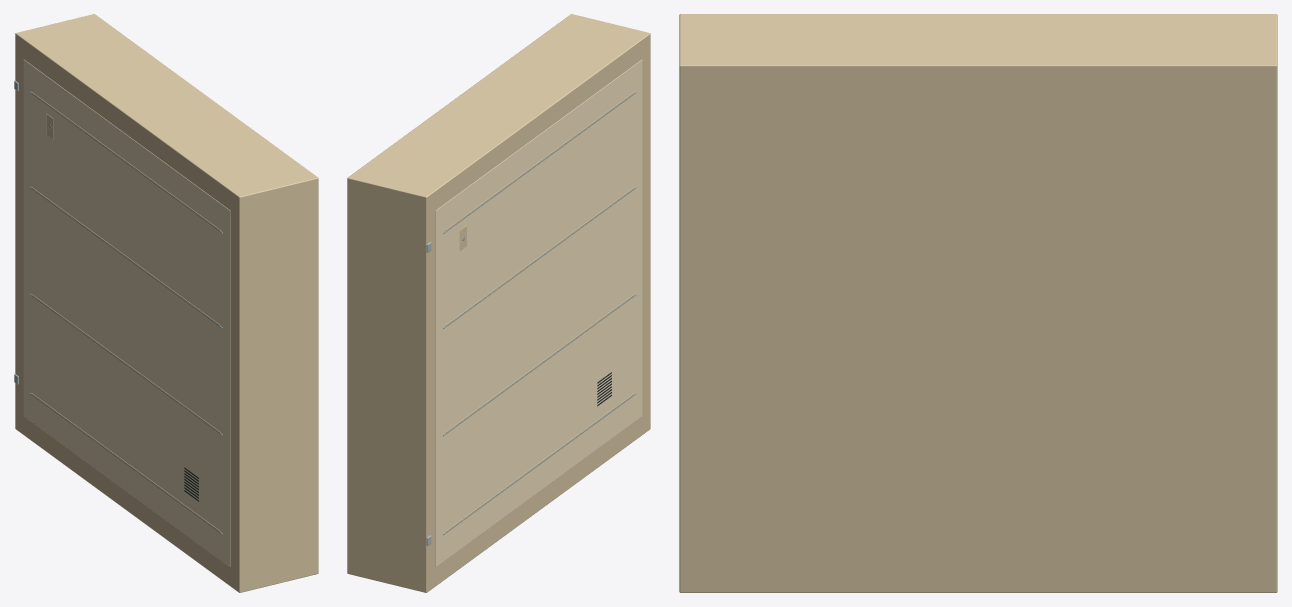
The model's file is fridge-case-light.glb.
The picture shows the model from 3 angles, left to right: view 1: azimuth 30°, elevation 25°; view 2: azimuth 150°, elevation 25°; view 3: azimuth 270°, elevation 25°; orthographic projection. The views are drawn at different scales.
Visible parts, largest first — view 1: ivory, cream, steel; view 2: ivory, cream, steel; view 3: cream.
Boxes of the visible parts, x1=… form: ivory: x1=23, y1=59, x2=230, y2=566; cream: x1=15, y1=14, x2=318, y2=592; steel: x1=14, y1=80, x2=222, y2=535; ivory: x1=435, y1=59, x2=642, y2=566; cream: x1=347, y1=14, x2=650, y2=592; steel: x1=426, y1=91, x2=636, y2=545; cream: x1=679, y1=14, x2=1277, y2=592.
Bounding box in the file's own units: 8.14 × 38 × 39.
